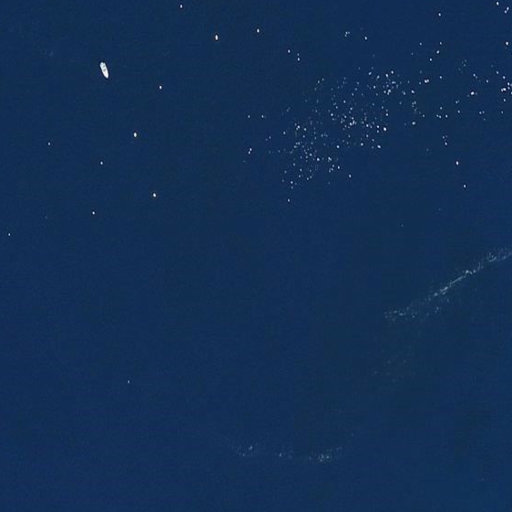ship: (98, 59, 110, 80)
